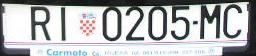-: (192, 20, 198, 25)
0: (102, 6, 123, 42), (147, 5, 168, 41)
2: (124, 6, 146, 42)
5: (171, 5, 192, 41)
C: (221, 4, 243, 39)
I: (58, 6, 67, 42)
M: (200, 5, 221, 41)
R: (28, 4, 53, 43)
